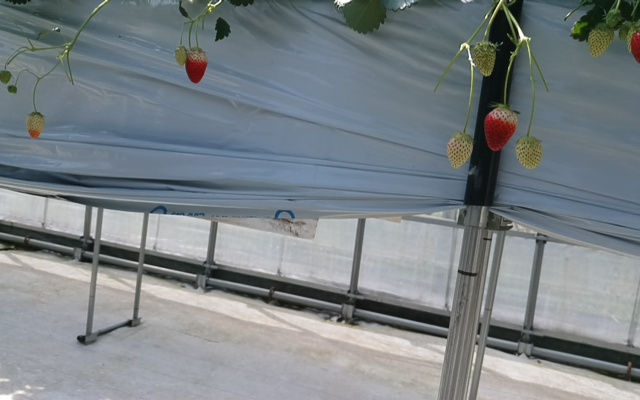GreenStrawberry: (446, 131, 473, 171), (588, 20, 614, 60), (514, 136, 544, 170), (471, 40, 496, 78), (26, 110, 46, 142), (176, 45, 187, 65)
MatureStrawberry: (483, 102, 518, 152), (186, 46, 210, 84)
